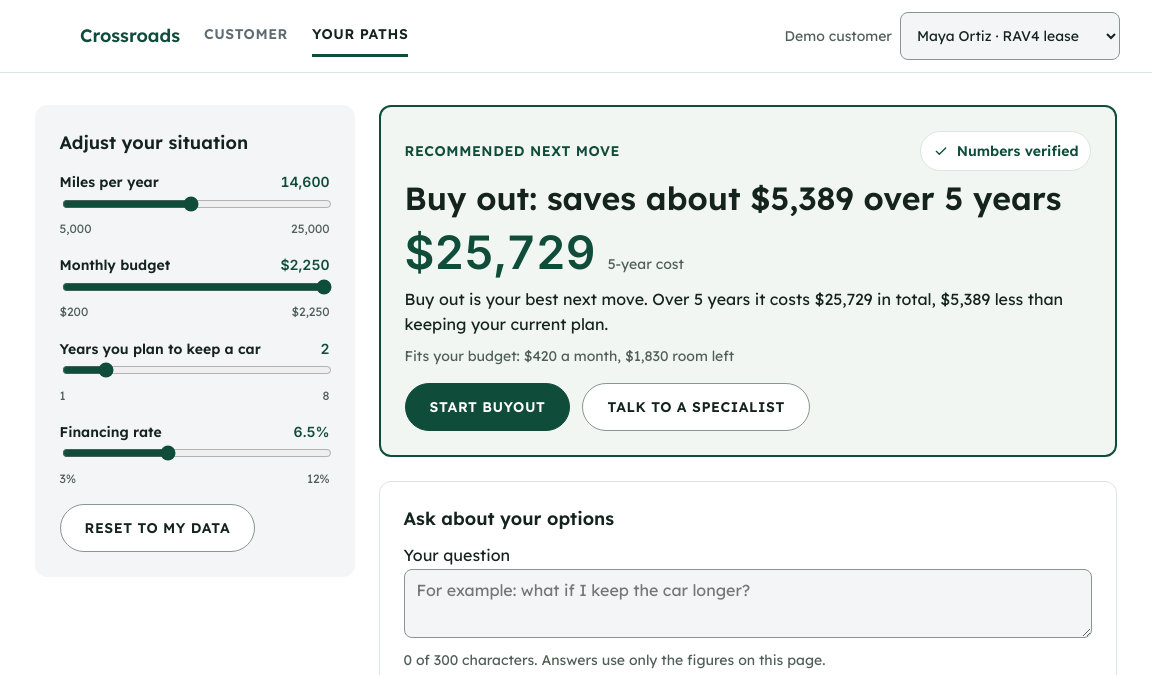
Test: Your paths sliders › starts again from the next customer's own defaults
Set the slider labelled "Miles per year" to "20000" at (260, 204), box [62, 196, 332, 212]
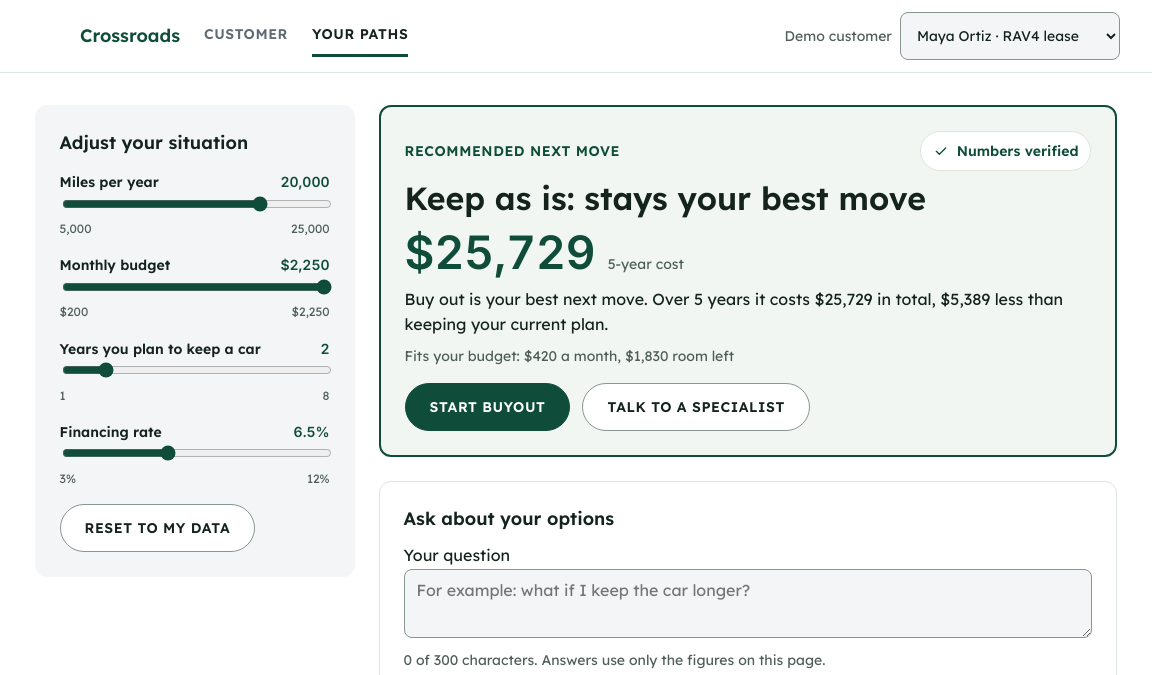
Now the heading "Keep as is: stays your best move" is shown, box [404, 178, 926, 218]
Select "Sam Lee · Camry loan" in the dropdown labelled "Demo customer" at (1010, 36), box [900, 12, 1120, 60]
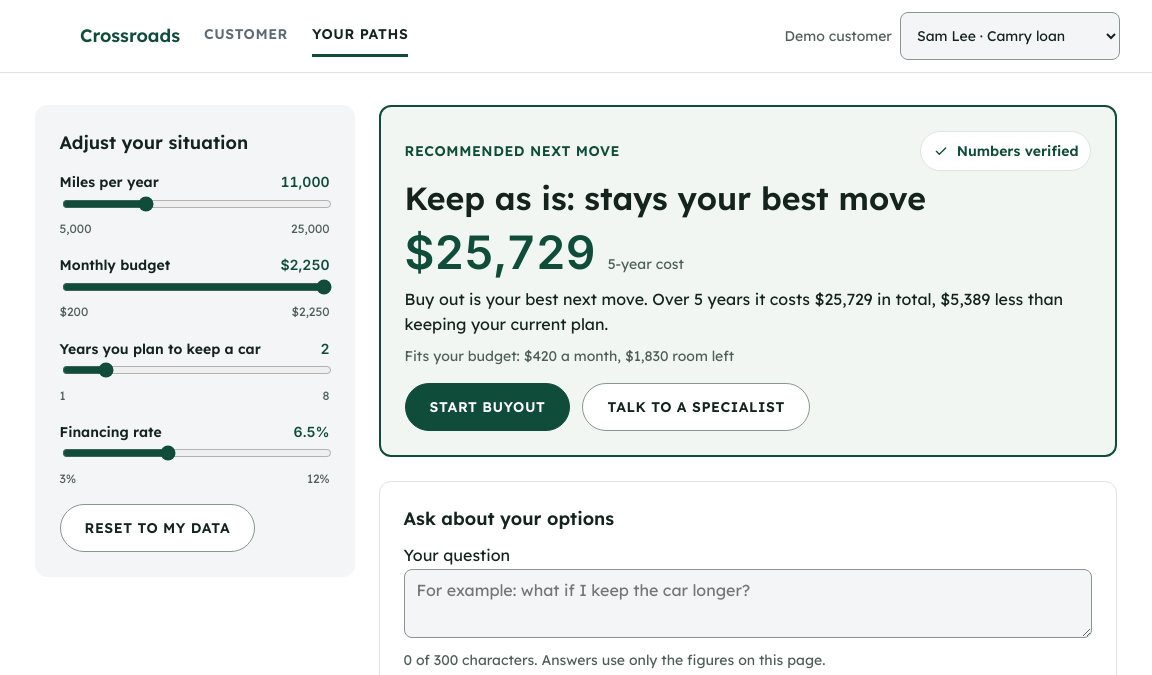
Now the slider labelled "Miles per year" holds "11000", box [62, 196, 332, 212]
